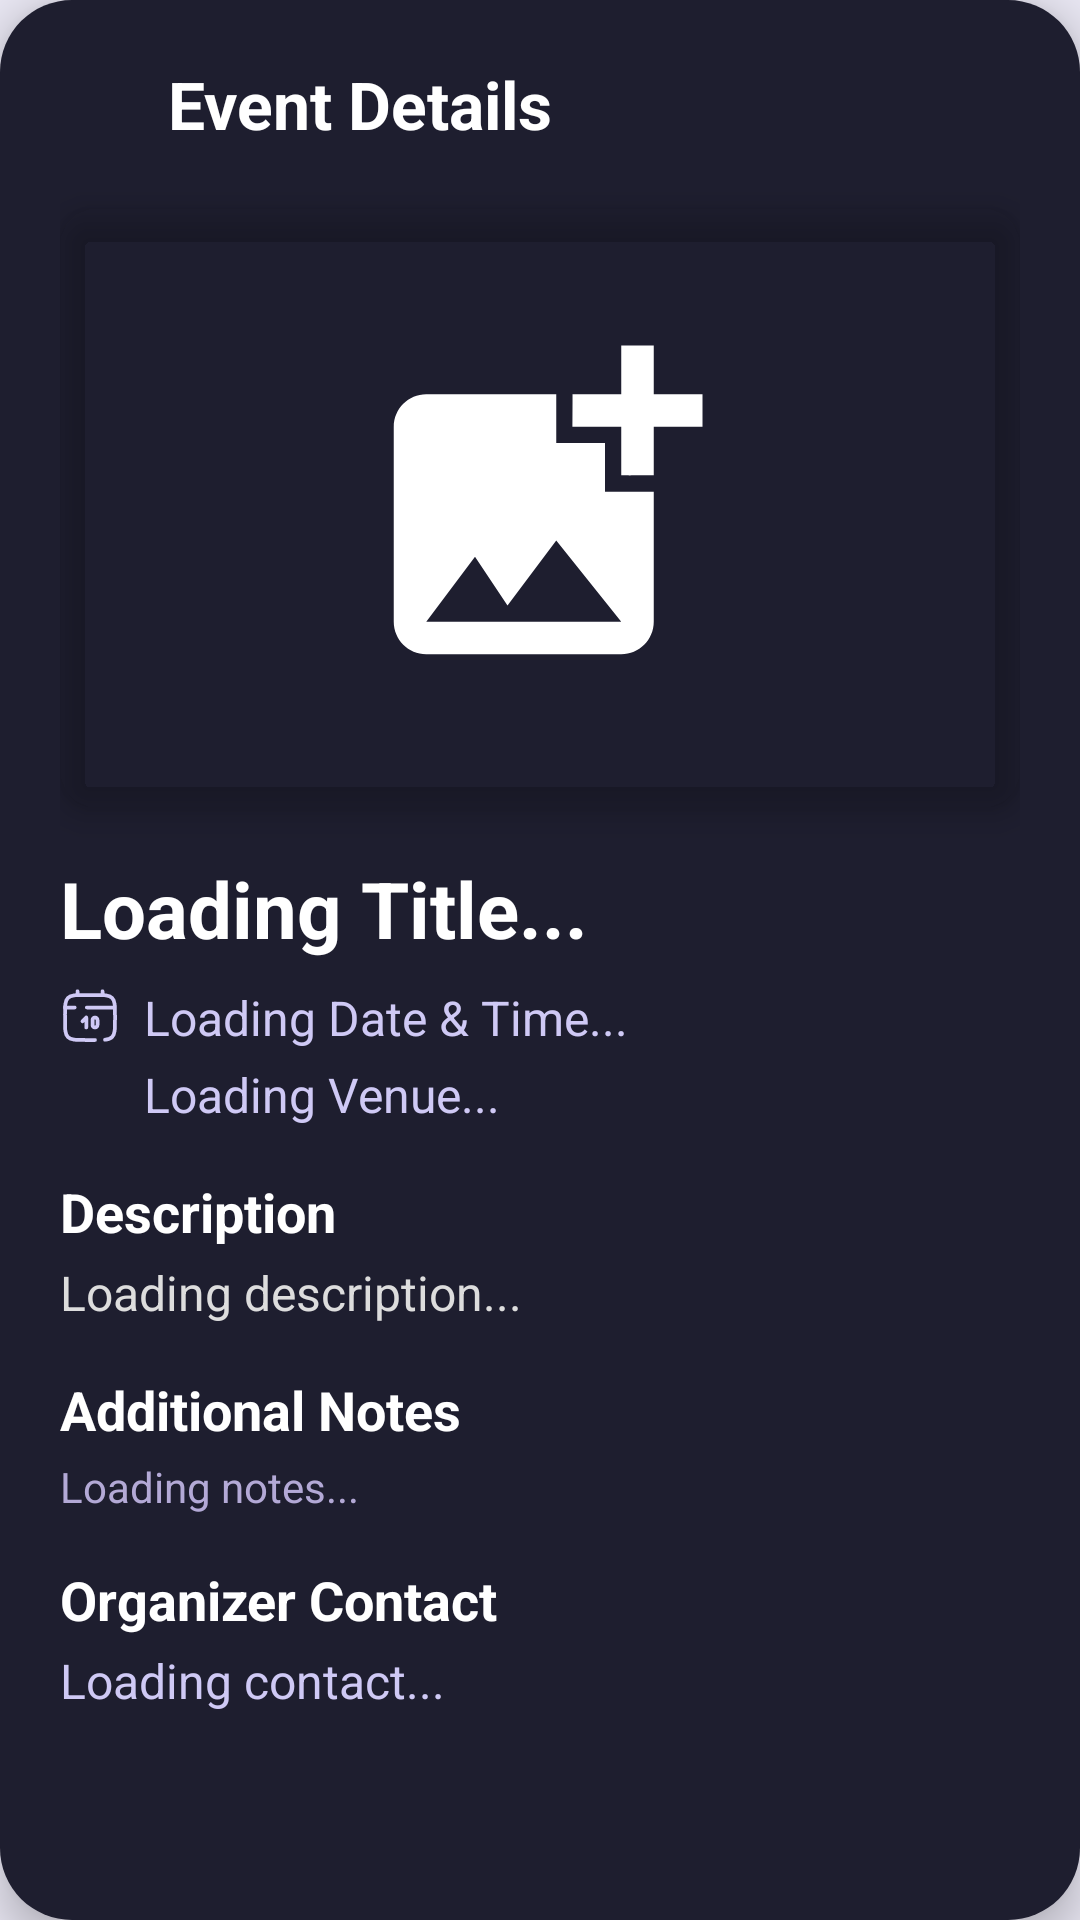

Icons on this 1080px x 1920px Android screen, each with its box as bbox(x1, y1, x2, y2):
calendar: bbox(63, 989, 117, 1042)
